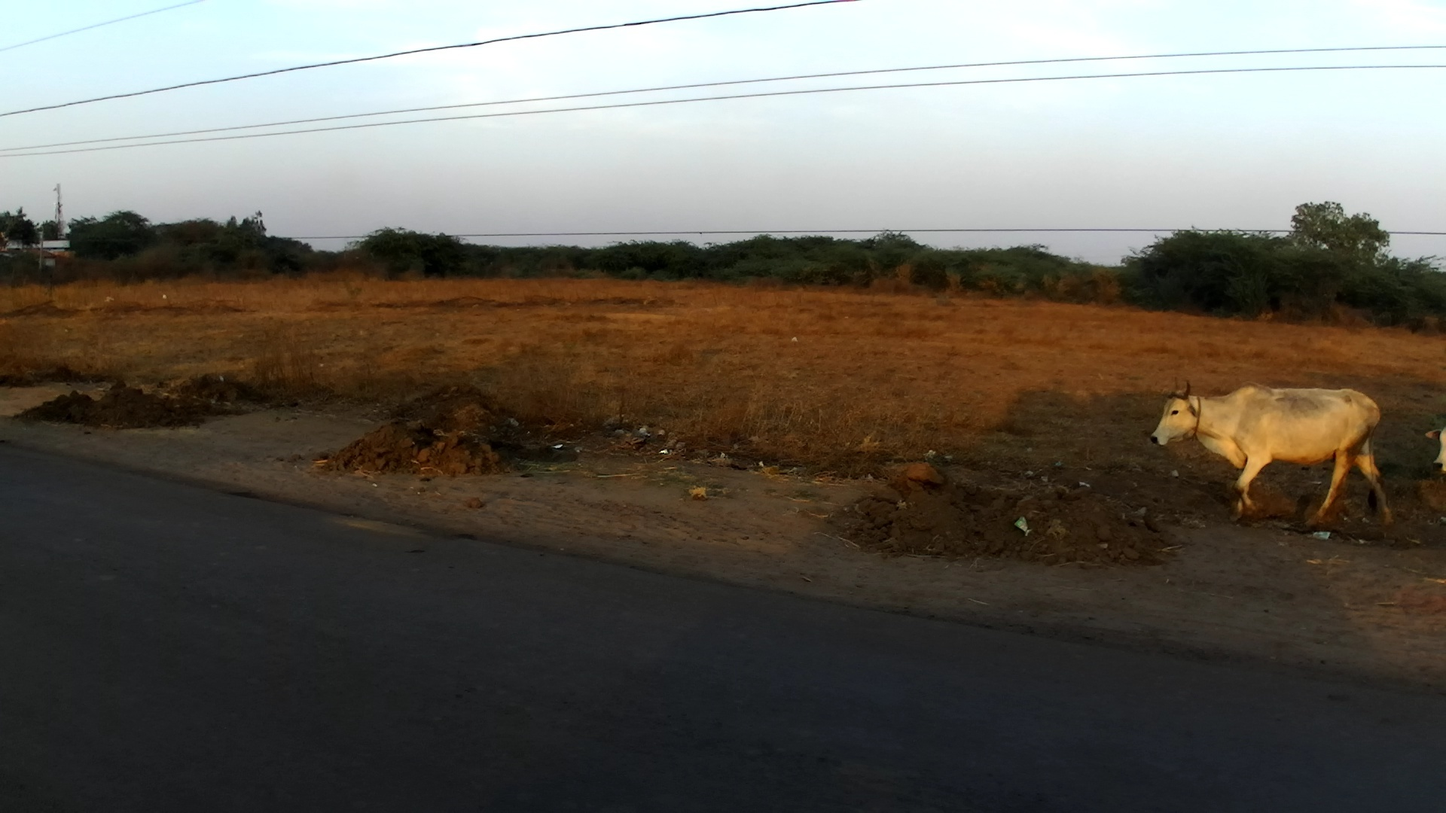animal: (1151, 376, 1393, 530), (1427, 416, 1445, 491)
